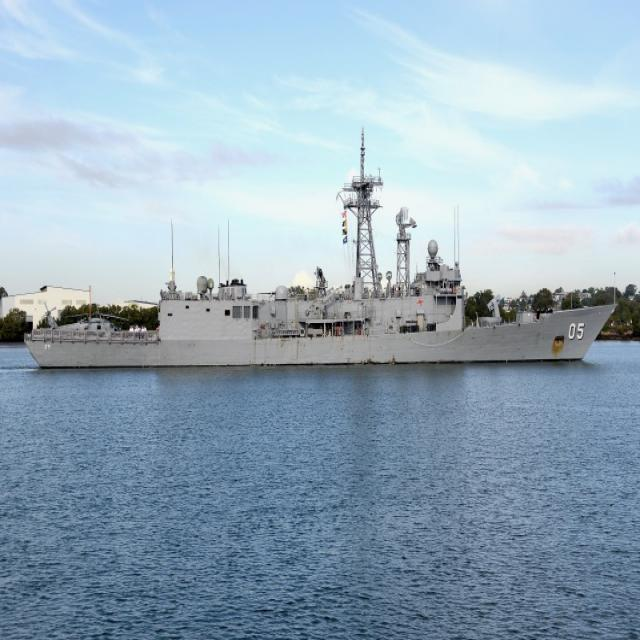Fragata: (22, 116, 617, 375)
